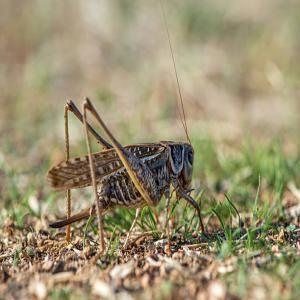locust: (42, 96, 222, 246)
